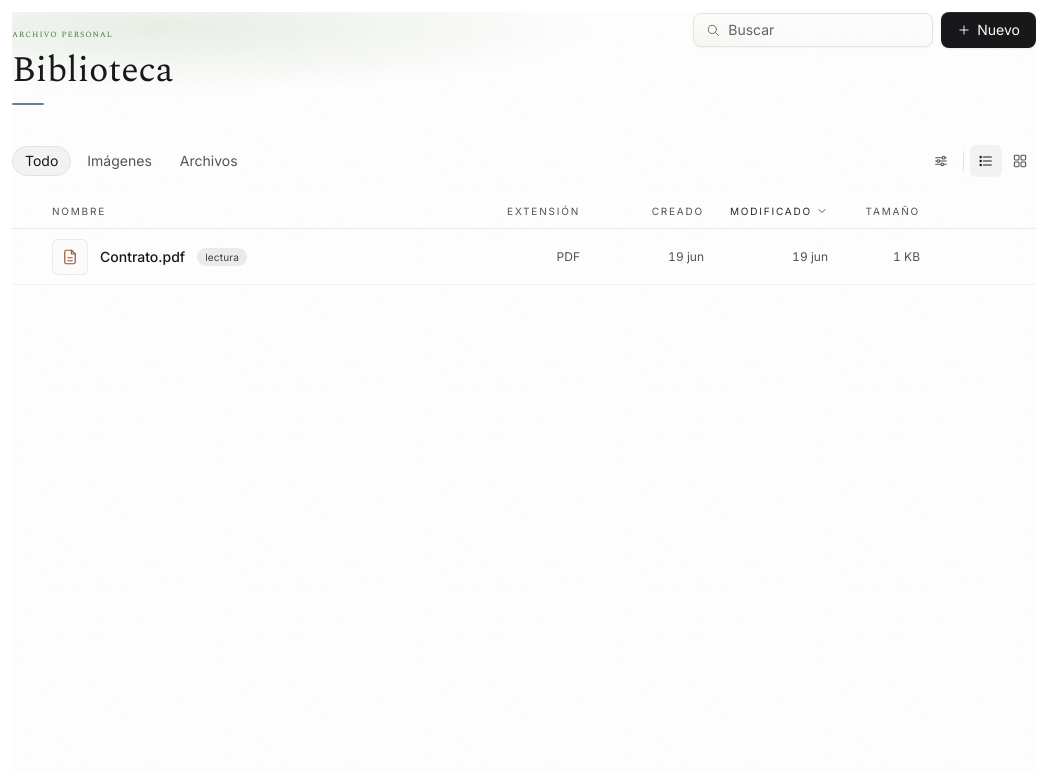
Scenario: <BibliotecaView /> › el indicador de etiqueta se puede quitar (limpia el param)
The image size is (1048, 780).
Expected: the text "Contrato.pdf" is shown, [100, 246, 185, 266]
Click the button with aria-label "Filtrar por etiqueta lectura": (222, 256) [197, 248, 247, 266]
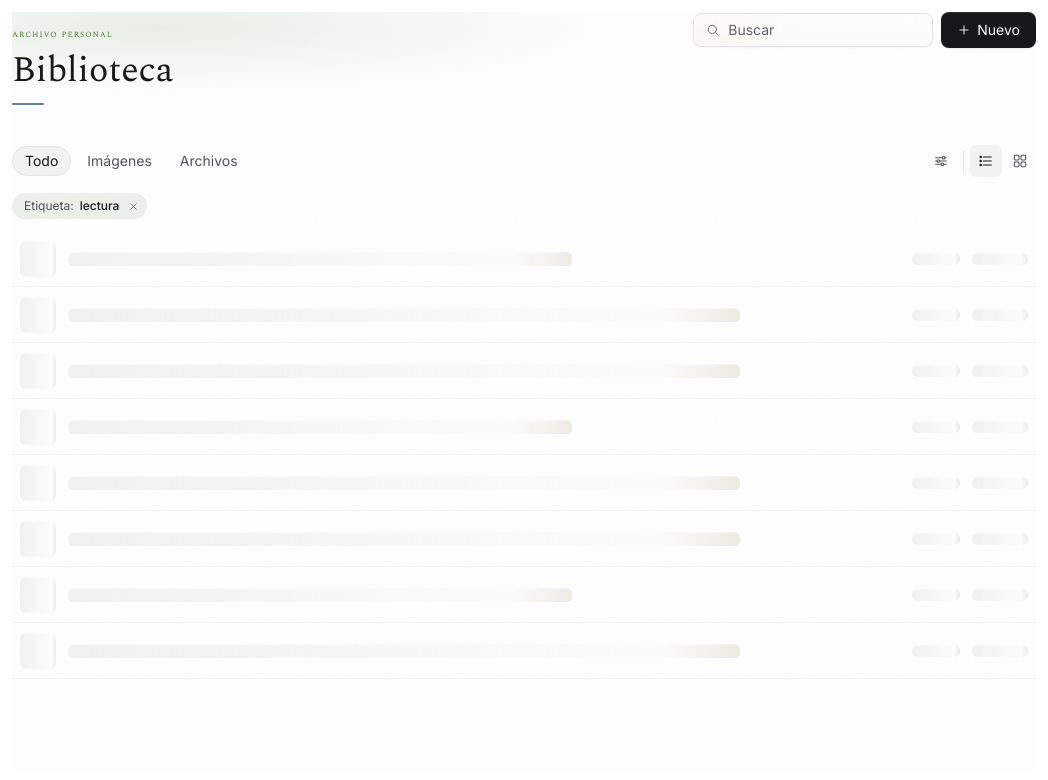
Click the button named "Quitar filtro de etiqueta lectura": (133, 206) [125, 198, 141, 214]
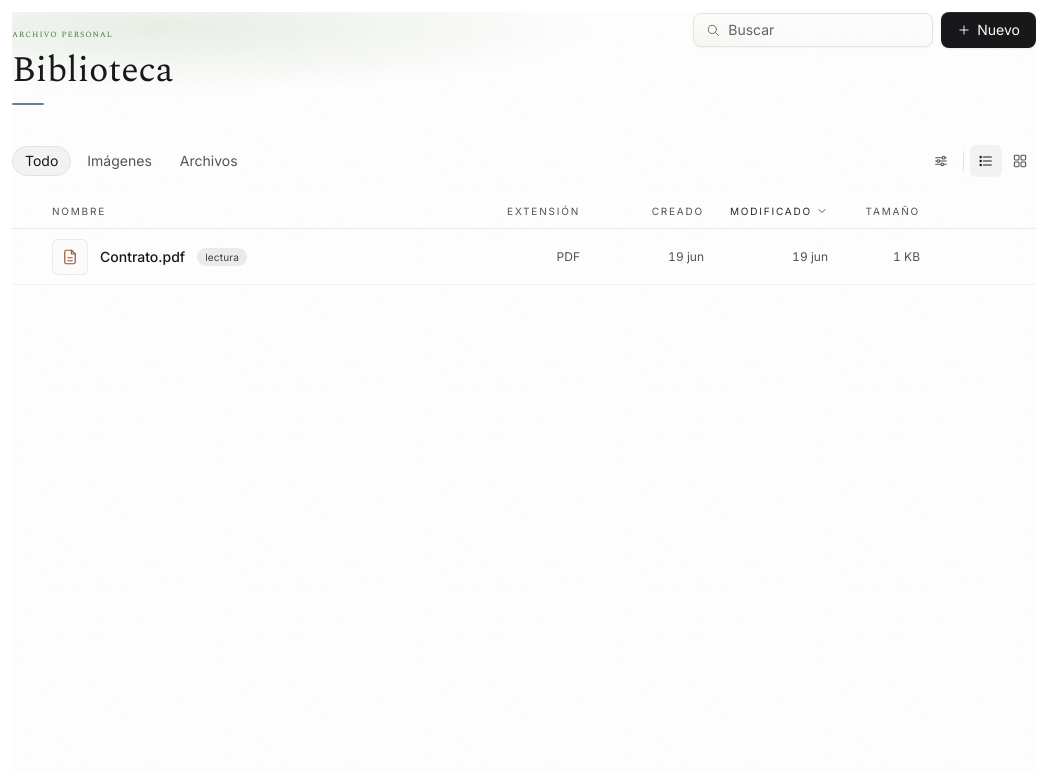
Now the text "Etiqueta:" is gone
